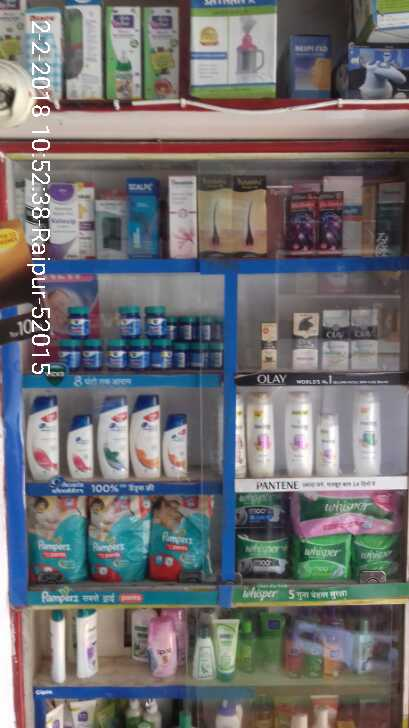beauty: (253, 305, 379, 376), (346, 389, 393, 475), (26, 394, 61, 490), (93, 394, 127, 487), (244, 387, 278, 478), (285, 383, 315, 484), (127, 392, 161, 481), (157, 403, 194, 479), (313, 406, 343, 487), (66, 413, 94, 479)
pharmacy: (49, 303, 231, 367), (27, 490, 86, 580), (145, 495, 206, 582), (291, 489, 402, 536), (93, 494, 147, 578), (352, 533, 409, 587), (298, 533, 352, 586), (233, 537, 293, 583)
